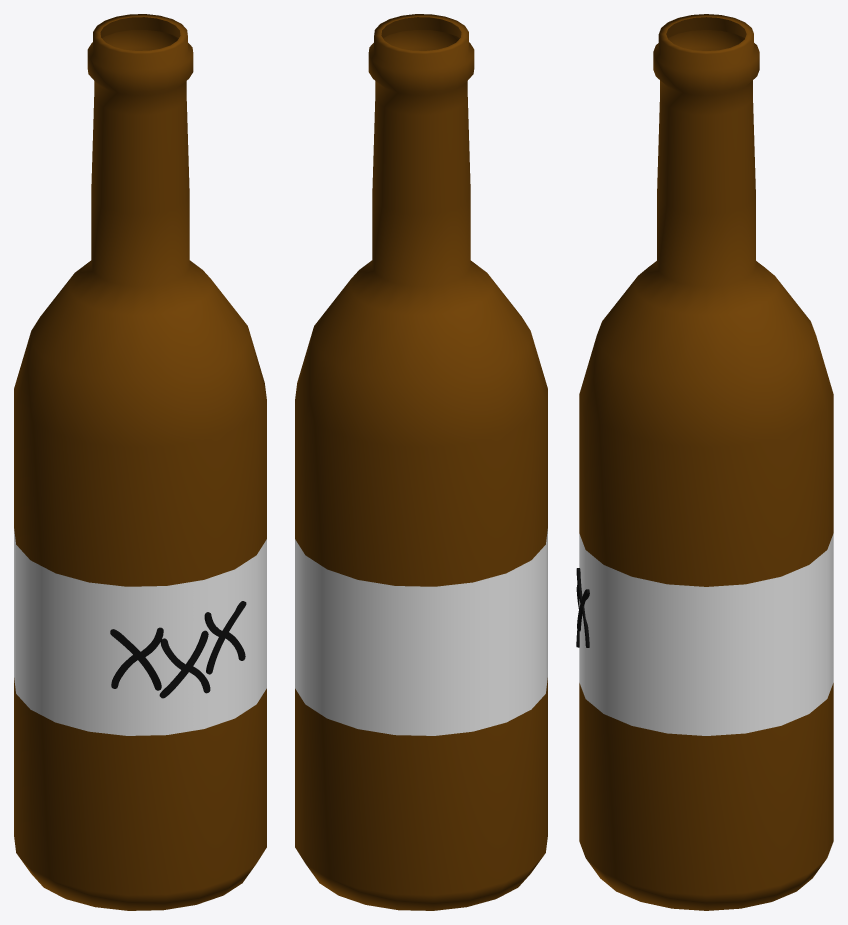
File: bottle.glb
3 views of the same model, side by side, from view 1: azimuth 30°, elevation 25°; view 2: azimuth 150°, elevation 25°; view 3: azimuth 270°, elevation 25° (orthographic).
Visible parts, largest first — view 1: rootbeerbottle; view 2: rootbeerbottle; view 3: rootbeerbottle.
Part boxes in pixels (x1,y1,x2,y2): rootbeerbottle: (14,14,266,910); rootbeerbottle: (295,14,547,910); rootbeerbottle: (576,14,833,910).
Size of the model in its own units: 1.2 by 4.39 by 1.22.
1 material, 1 textured.
